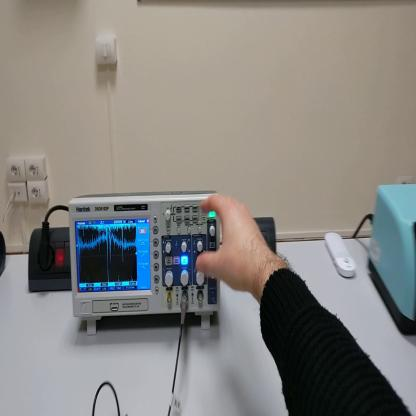hand: (196, 192, 266, 296)
oscilloscope: (67, 191, 224, 340)
socket: (26, 229, 74, 295), (1, 229, 8, 277)
welder station: (371, 183, 416, 336)
